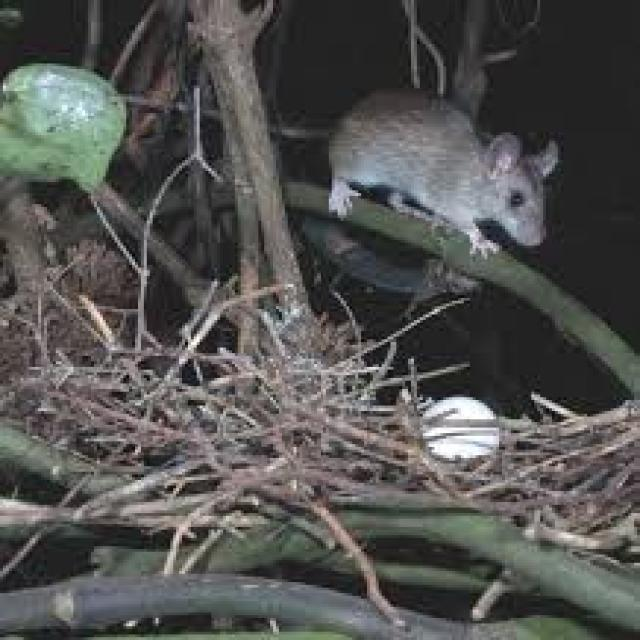Rat: (294, 43, 596, 263)
